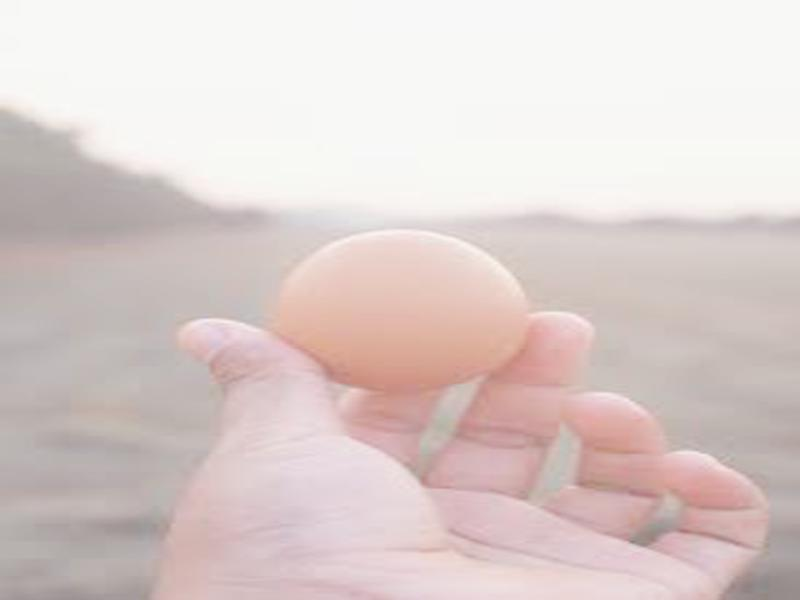Eggs: (275, 229, 529, 388)
